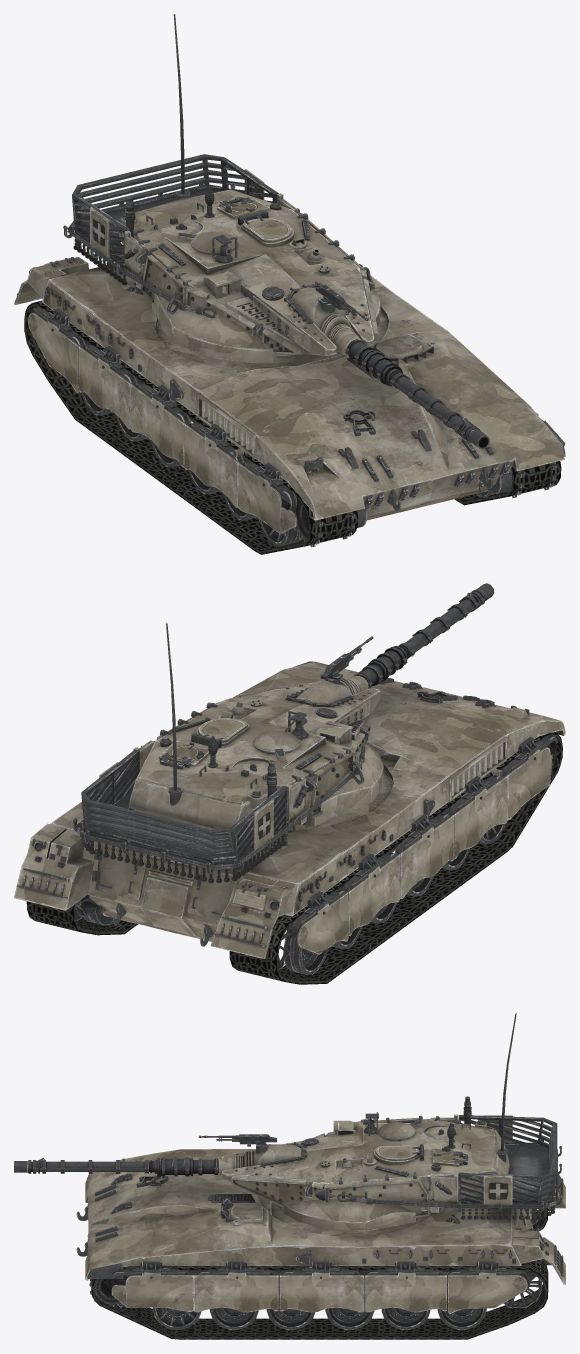
File: merkava-tank.glb
3 renders of one model, top to bottom at view 1: azimuth 30°, elevation 25°; view 2: azimuth 150°, elevation 25°; view 3: azimuth 270°, elevation 25°, orthographic. The views are drawn at different scales.
Visible parts, largest first — view 1: mesh0, mesh1; view 2: mesh0, mesh1; view 3: mesh0, mesh1.
Part boxes in pixels (box(x1,y1,x2,y2)): mesh0: box(14, 14, 565, 547); mesh1: box(24, 300, 561, 554); mesh0: box(14, 583, 565, 975); mesh1: box(26, 732, 562, 984); mesh0: box(14, 1013, 565, 1329); mesh1: box(91, 1208, 548, 1339).
Size of the model in its own units: 2.42 by 3 by 5.37.
Materials: 2 (2 with a texture image).
